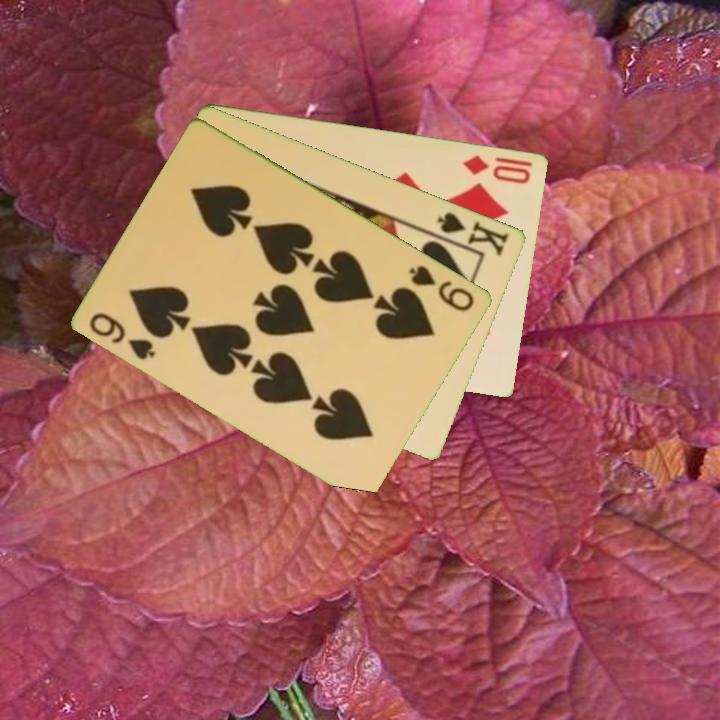10d: (459, 151, 534, 187)
9s: (86, 308, 159, 363), (405, 261, 478, 315)
Ks: (428, 208, 513, 259)
